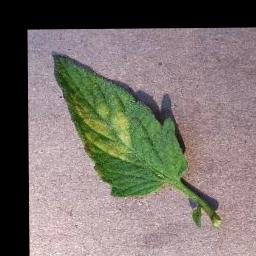Leaf_Mold: (71, 101, 135, 163)
